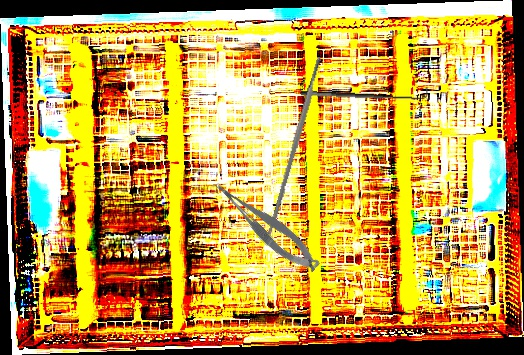Hook Surgical: (300, 80, 429, 104)
Micro Scissor: (210, 169, 324, 282)
Scalpel Handle: (265, 56, 325, 236)
